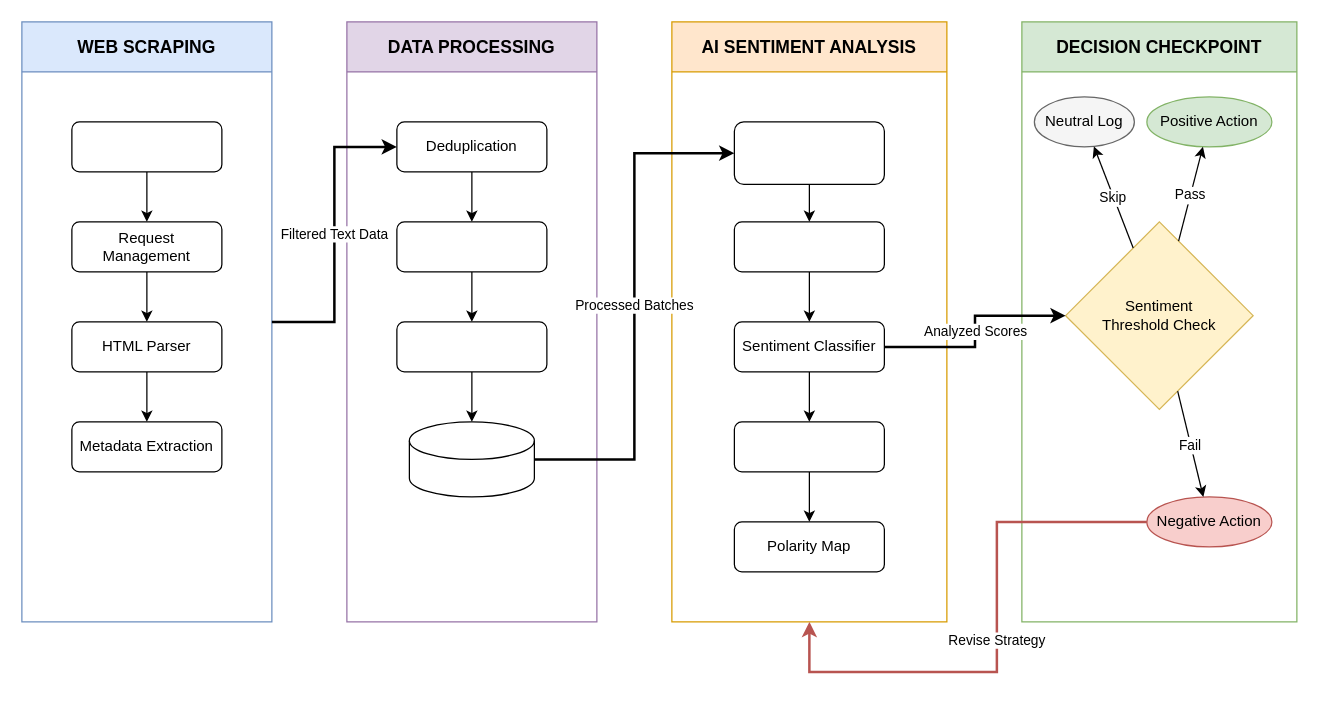
Some shapes in this 1319 by 705 pixel diagram are drawn without their labels. Here are the shapes that lost their labels. From the top down, the centre of each, then its label:
At [146,146]: "Target URLs".
At [808,152]: "Deep Learning Model (LLM)".
At [471,246]: "Cleaning (NLP Prep)".
At [808,246]: "Feature Extraction".
At [471,346]: "Tokenization".
At [471,459]: "Batch Storage".
At [808,446]: "Confidence Score".
